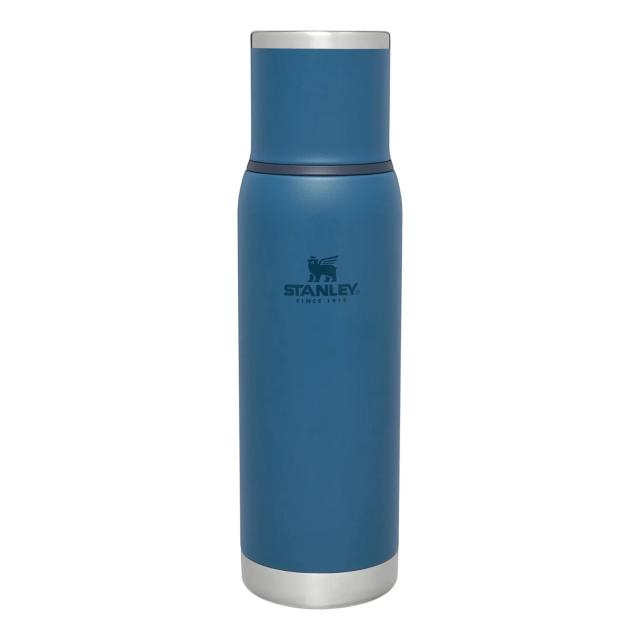Termos: (236, 26, 401, 611)
